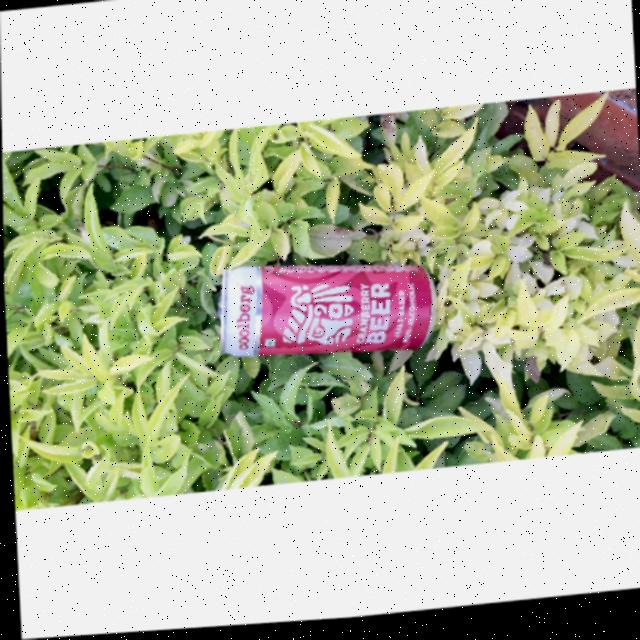Coolberg: (219, 256, 424, 379)
